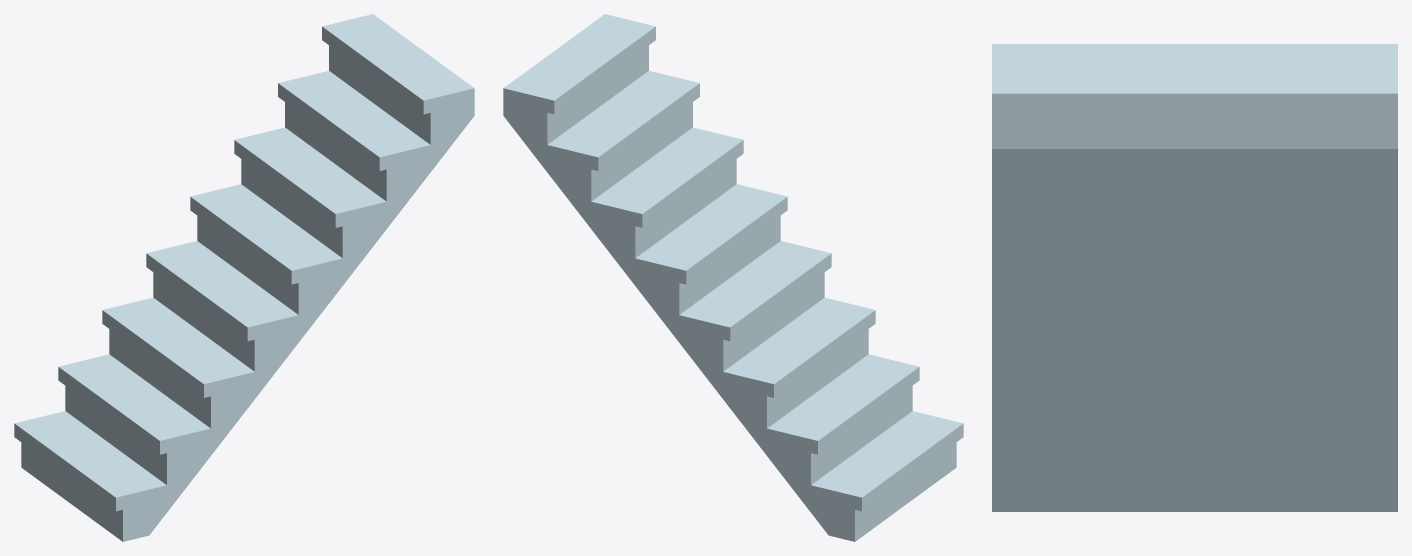
3 views of the same model, side by side, from view 1: azimuth 30°, elevation 25°; view 2: azimuth 150°, elevation 25°; view 3: azimuth 270°, elevation 25° (orthographic). The views are drawn at different scales.
Visible parts, largest first — view 1: stairsStone; view 2: stairsStone; view 3: stairsStone.
Boxes of the visible parts, box(x1,y1,x2,y2) form: stairsStone: box(14, 14, 474, 541); stairsStone: box(503, 14, 963, 541); stairsStone: box(992, 44, 1397, 511).
Size of the model in its own units: 1.02 by 1 by 0.5.
